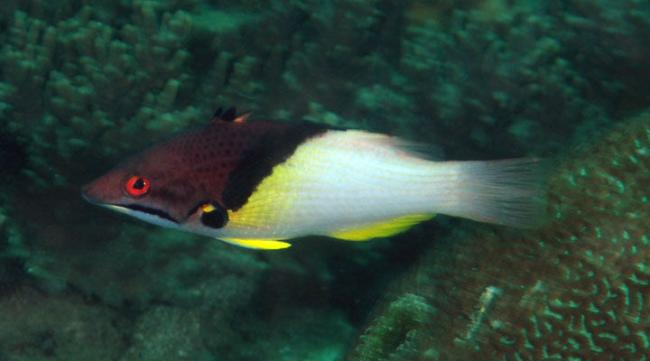fish: (79, 107, 551, 249)
